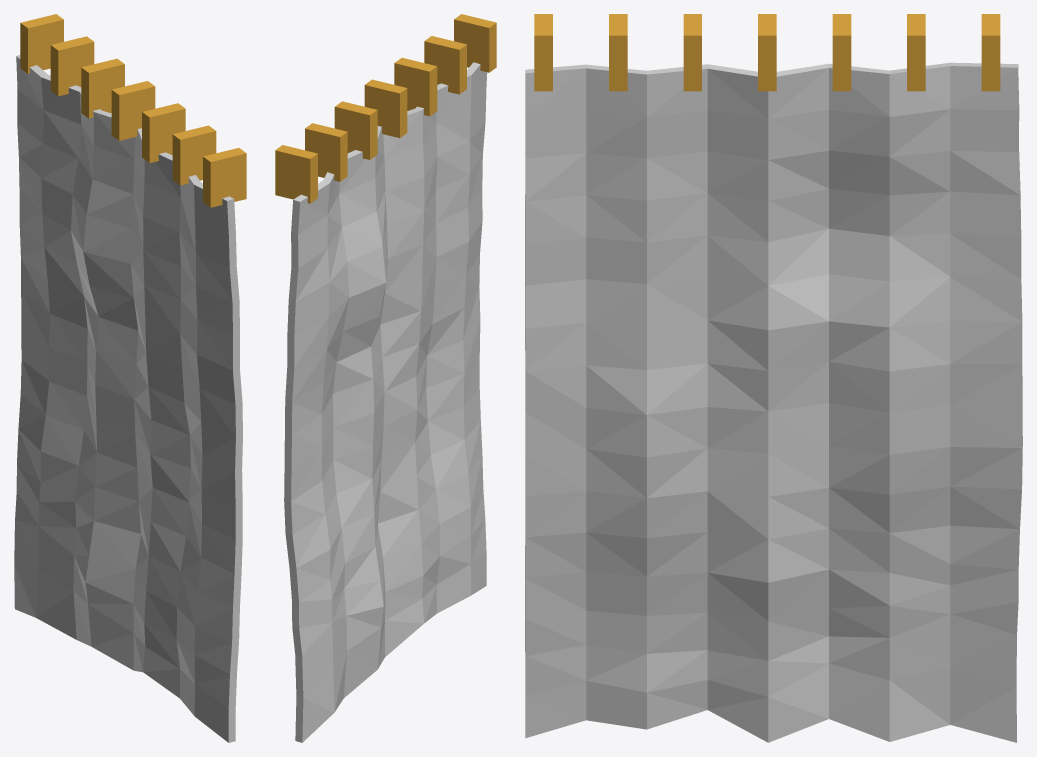
File: curtain2.fbx
3 renders of one model, left to right at view 1: azimuth 30°, elevation 25°; view 2: azimuth 150°, elevation 25°; view 3: azimuth 270°, elevation 25°, orthographic. The views are drawn at different scales.
Visible parts, largest first — view 1: Cube.100; view 2: Cube.100; view 3: Cube.100.
Boxes of the visible parts, box(x1,y1,x2,y2) form: Cube.100: box(14, 14, 246, 742); Cube.100: box(275, 14, 496, 742); Cube.100: box(525, 14, 1022, 742).
Size of the model in its own units: 37.13 by 486 by 303.
